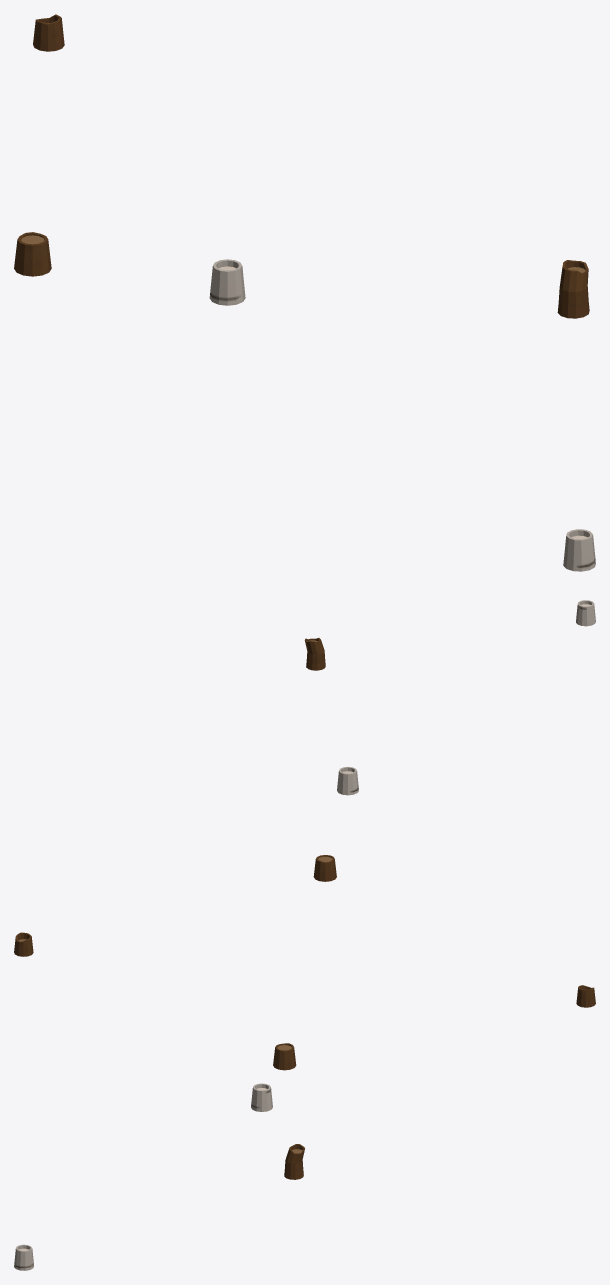
Rendered from Trunks17.gltf.
The picture shows the model from 3 angles, top to bottom: view 1: azimuth 30°, elevation 25°; view 2: azimuth 150°, elevation 25°; view 3: azimuth 330°, elevation 25°; orthographic projection. The views are drawn at different scales.
Visible parts, largest first — view 1: Trunk3 - copy.009, Trunk2 - copy.009, Trunk1 - copy.018, Trunk2 - copy.002, Trunk4 - copy.015; view 2: Trunk3 - copy.009, Trunk2 - copy.009, Trunk1 - copy.018, Trunk2 - copy.002; view 3: Trunk3 - copy.009, Trunk2 - copy.009, Trunk1 - copy.018, Trunk2 - copy.002, Trunk4 - copy.015.
Boxes of the visible parts, x1,y1,x2,y2 form: Trunk3 - copy.009: (557, 260, 589, 318); Trunk2 - copy.009: (209, 259, 245, 305); Trunk1 - copy.018: (14, 232, 51, 276); Trunk2 - copy.002: (563, 529, 595, 571); Trunk4 - copy.015: (33, 14, 64, 51); Trunk3 - copy.009: (304, 638, 325, 670); Trunk2 - copy.009: (337, 767, 358, 795); Trunk1 - copy.018: (313, 855, 336, 881); Trunk2 - copy.002: (576, 600, 595, 626); Trunk3 - copy.009: (284, 1144, 304, 1179); Trunk2 - copy.009: (251, 1083, 272, 1111); Trunk1 - copy.018: (273, 1043, 296, 1070); Trunk2 - copy.002: (14, 1244, 33, 1270); Trunk4 - copy.015: (576, 985, 595, 1007).
Size of the model in its own units: 5.03 by 2.15 by 20.78.
Materials: 4 (4 with a texture image).
